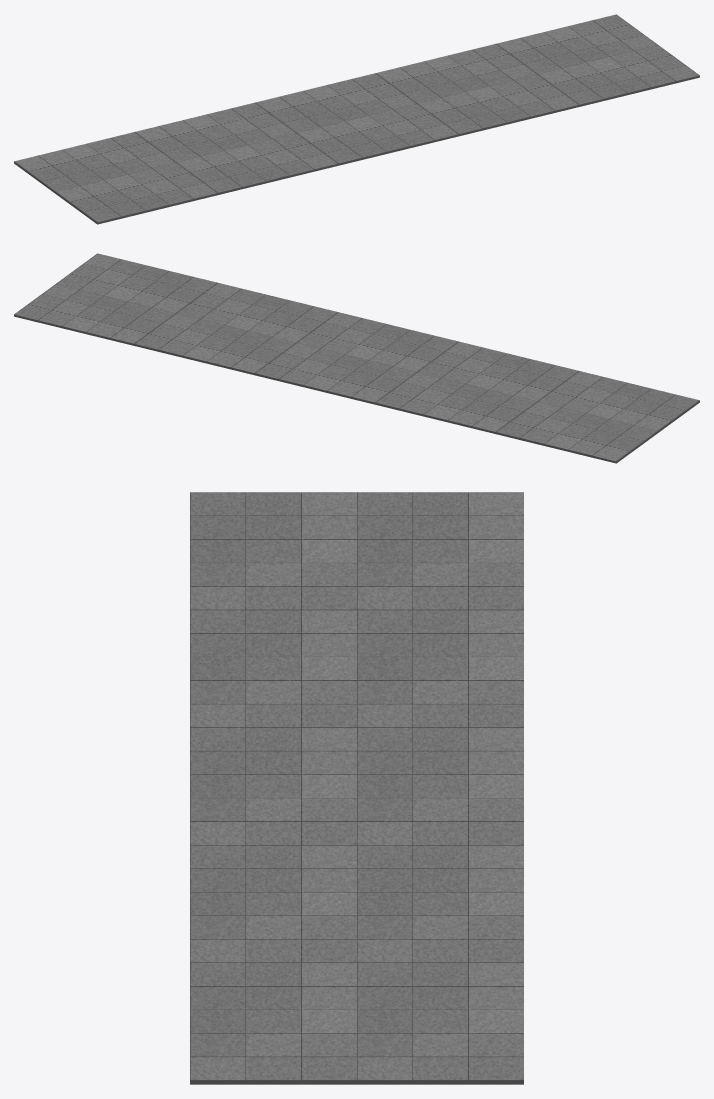
File: Section8.glb
3 views of the same model, one above another, from view 1: azimuth 30°, elevation 25°; view 2: azimuth 150°, elevation 25°; view 3: azimuth 270°, elevation 25° (orthographic). The views are drawn at different scales.
Parts seen in each view (by area): view 1: Concrete.075, Concrete.059, Concrete.061, Concrete.079, Concrete.060, Concrete.076, Concrete.080, Concrete.064, Concrete.062, Concrete.063; view 2: Concrete.076, Concrete.062, Concrete.064, Concrete.080, Concrete.063, Concrete.075, Concrete.079, Concrete.061, Concrete.059, Concrete.060; view 3: Concrete.079, Concrete.080, Concrete.061, Concrete.064, Concrete.059, Concrete.060, Concrete.062, Concrete.063, Concrete.075, Concrete.076.
Boxes of the visible parts, x1,y1,x2,y2 form: Concrete.075: [55, 162, 217, 224]; Concrete.059: [417, 74, 579, 136]; Concrete.061: [297, 104, 458, 165]; Concrete.079: [538, 45, 699, 106]; Concrete.060: [176, 133, 338, 194]; Concrete.076: [14, 132, 175, 193]; Concrete.080: [496, 14, 657, 73]; Concrete.064: [255, 73, 416, 132]; Concrete.062: [376, 44, 537, 103]; Concrete.063: [135, 102, 296, 162]; Concrete.076: [496, 401, 658, 463]; Concrete.062: [134, 313, 296, 375]; Concrete.064: [255, 343, 416, 404]; Concrete.080: [14, 284, 175, 345]; Concrete.063: [375, 372, 537, 433]; Concrete.075: [538, 371, 699, 432]; Concrete.079: [56, 253, 217, 312]; Concrete.061: [297, 312, 458, 371]; Concrete.059: [176, 283, 337, 342]; Concrete.060: [417, 341, 578, 401]; Concrete.079: [190, 962, 356, 1084]; Concrete.080: [357, 962, 523, 1084]; Concrete.061: [190, 727, 356, 845]; Concrete.064: [357, 727, 523, 845]; Concrete.059: [190, 845, 356, 962]; Concrete.060: [190, 610, 356, 727]; Concrete.062: [357, 845, 523, 962]; Concrete.063: [357, 610, 523, 727]; Concrete.075: [190, 492, 356, 609]; Concrete.076: [357, 492, 523, 609].
Bounding box in the file's own units: 100 × 0.336 × 24.
1 material, 1 textured.
